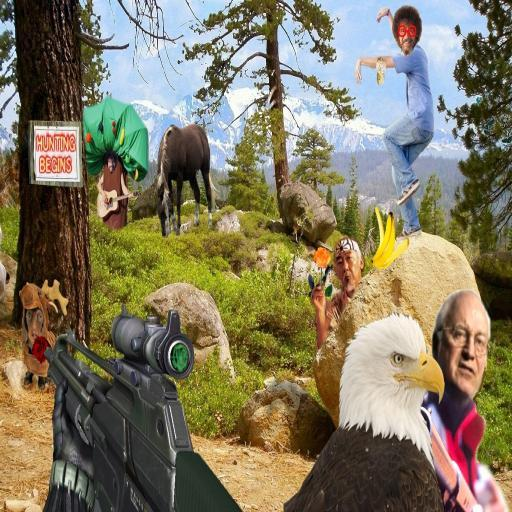Horse: (154, 125, 220, 239)
